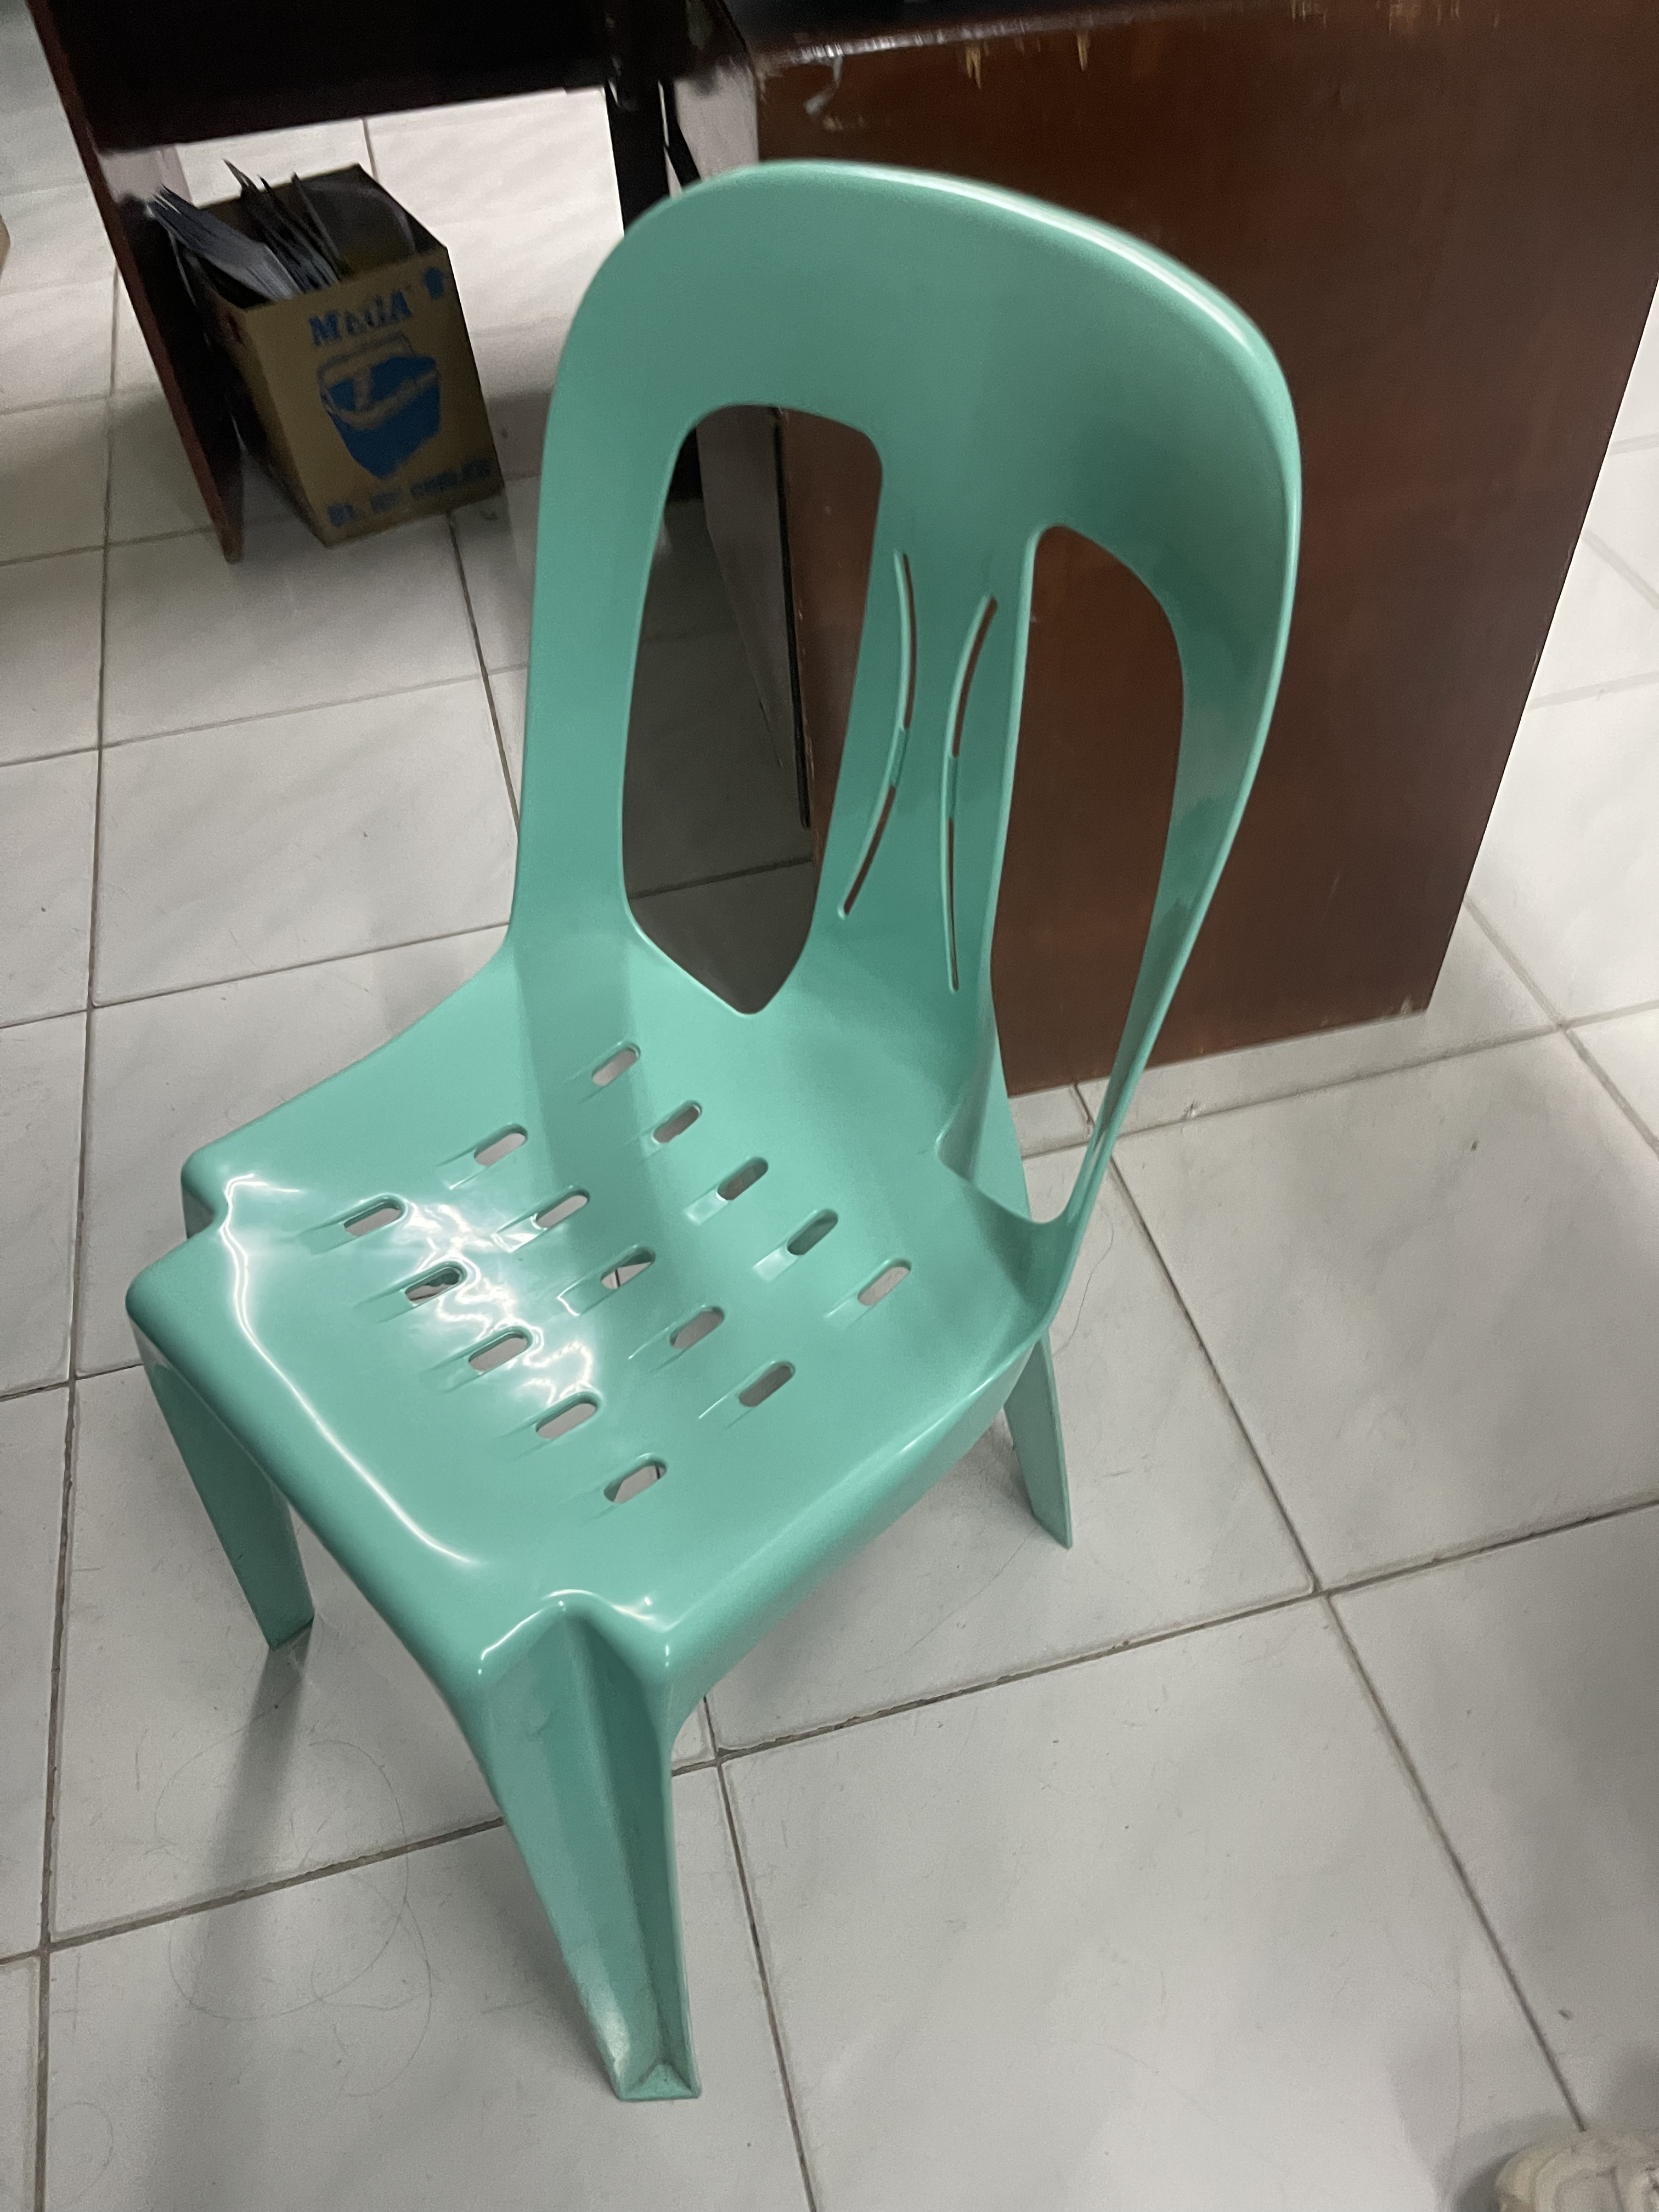chair2: (94, 162, 1316, 2118)
